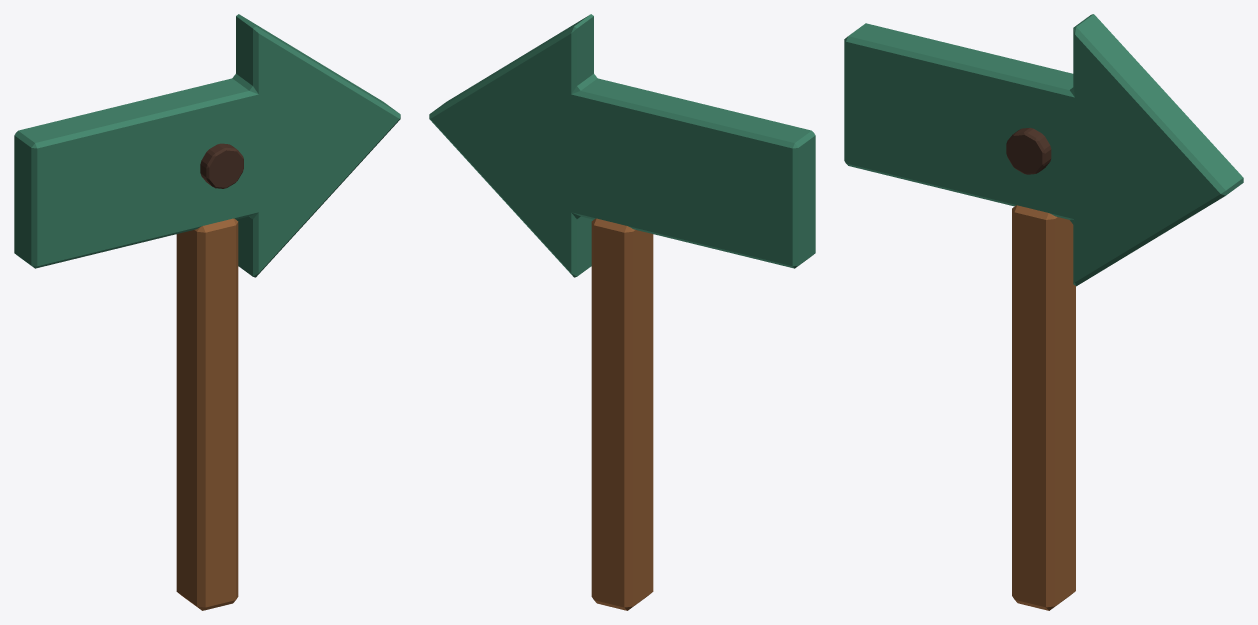
The model's file is ArrowSign.glb.
3 views of the same model, side by side, from view 1: azimuth 30°, elevation 25°; view 2: azimuth 150°, elevation 25°; view 3: azimuth 330°, elevation 25° (orthographic). The views are drawn at different scales.
Visible parts, largest first — view 1: ArrowSign_Arrow, ArrowSign_Post, ArrowSign_Fastener; view 2: ArrowSign_Arrow, ArrowSign_Post; view 3: ArrowSign_Arrow, ArrowSign_Post, ArrowSign_Fastener.
Part boxes in pixels (left/top/right/bottom): ArrowSign_Arrow: left=14, top=14, right=400, bottom=277; ArrowSign_Post: left=176, top=218, right=238, bottom=610; ArrowSign_Fastener: left=200, top=143, right=243, bottom=188; ArrowSign_Arrow: left=429, top=14, right=815, bottom=277; ArrowSign_Post: left=591, top=218, right=653, bottom=610; ArrowSign_Arrow: left=844, top=14, right=1243, bottom=286; ArrowSign_Post: left=1012, top=205, right=1075, bottom=610; ArrowSign_Fastener: left=1006, top=128, right=1051, bottom=174.
Size of the model in its own units: 0.7998 by 1.18 by 0.12.
